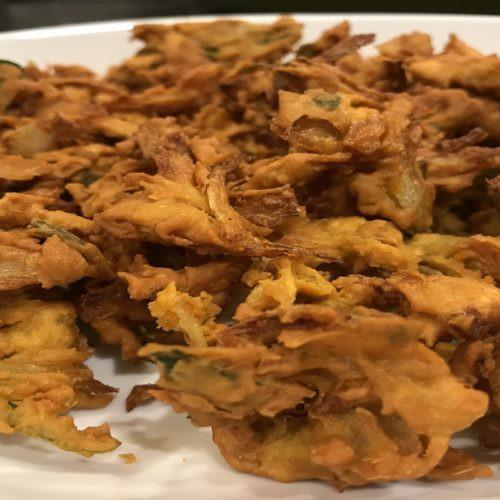OnionPakoda: (0, 4, 500, 500)
